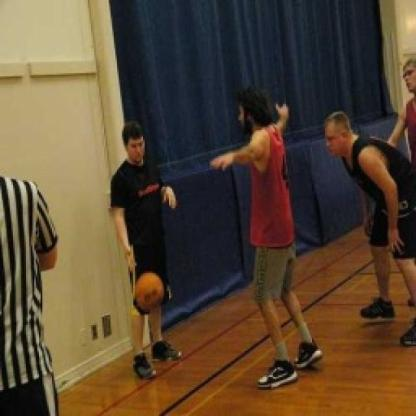basketball: (131, 270, 169, 312)
